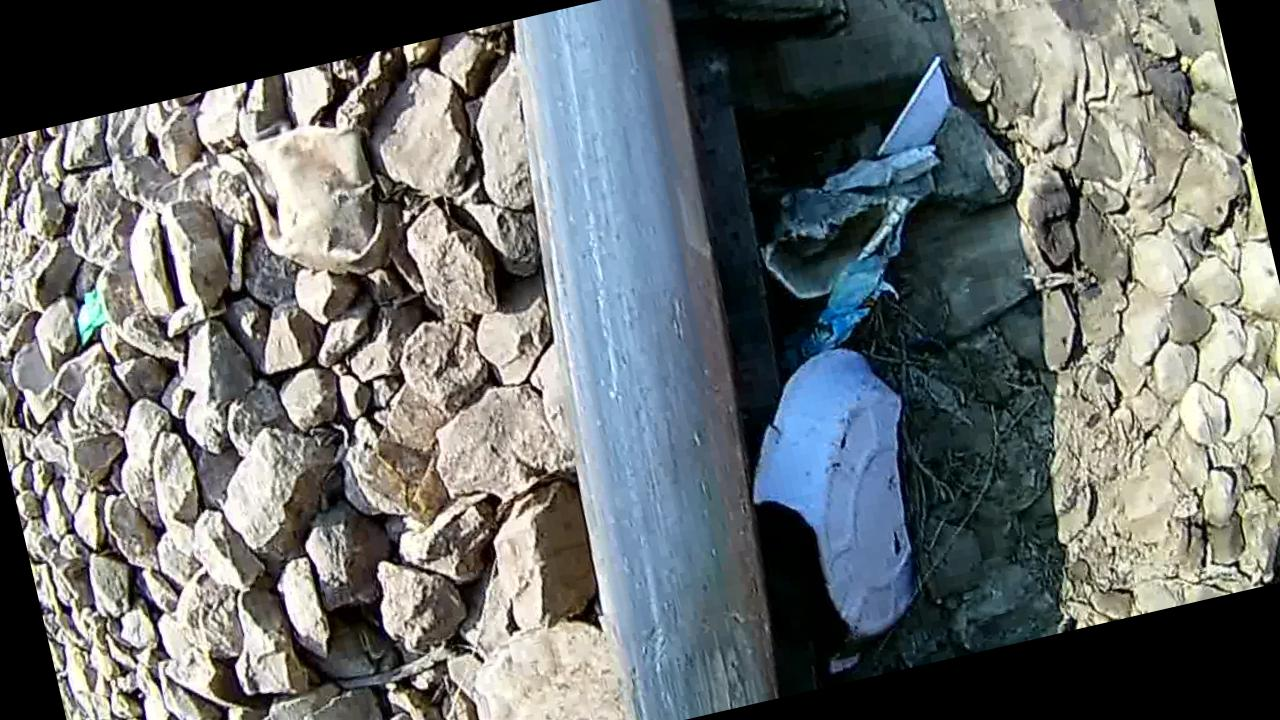bolt_missing: (576, 543, 803, 720)
